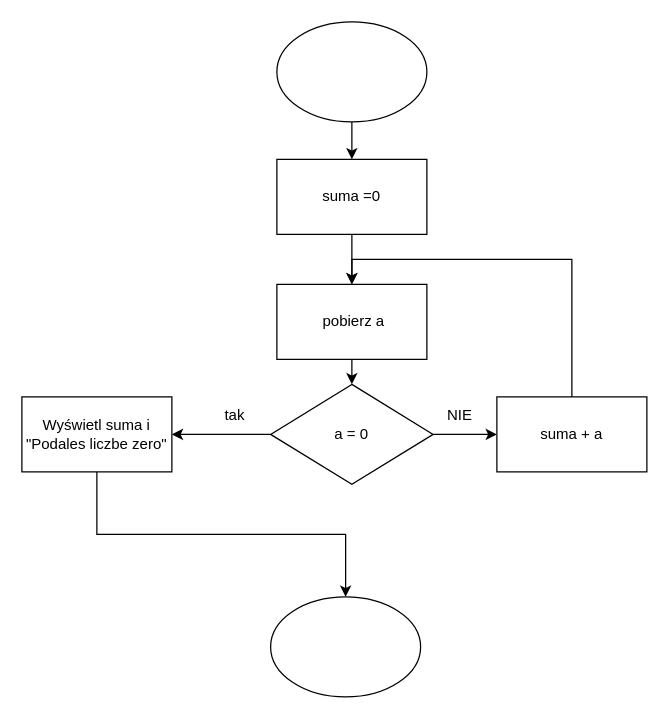
This 669x719 diagram has some shape labels left out. Each missing label, with the centre of its shape:
"Start" goes at (351,71).
"STOP" goes at (345,646).
